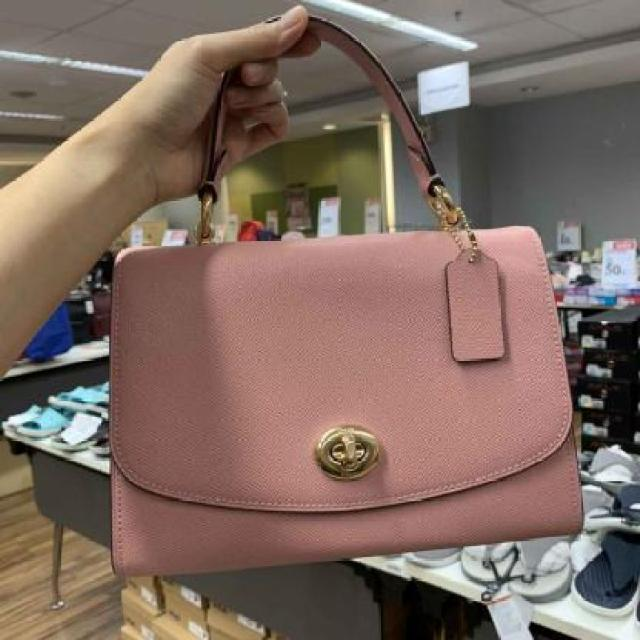Bag: (67, 0, 627, 612)
